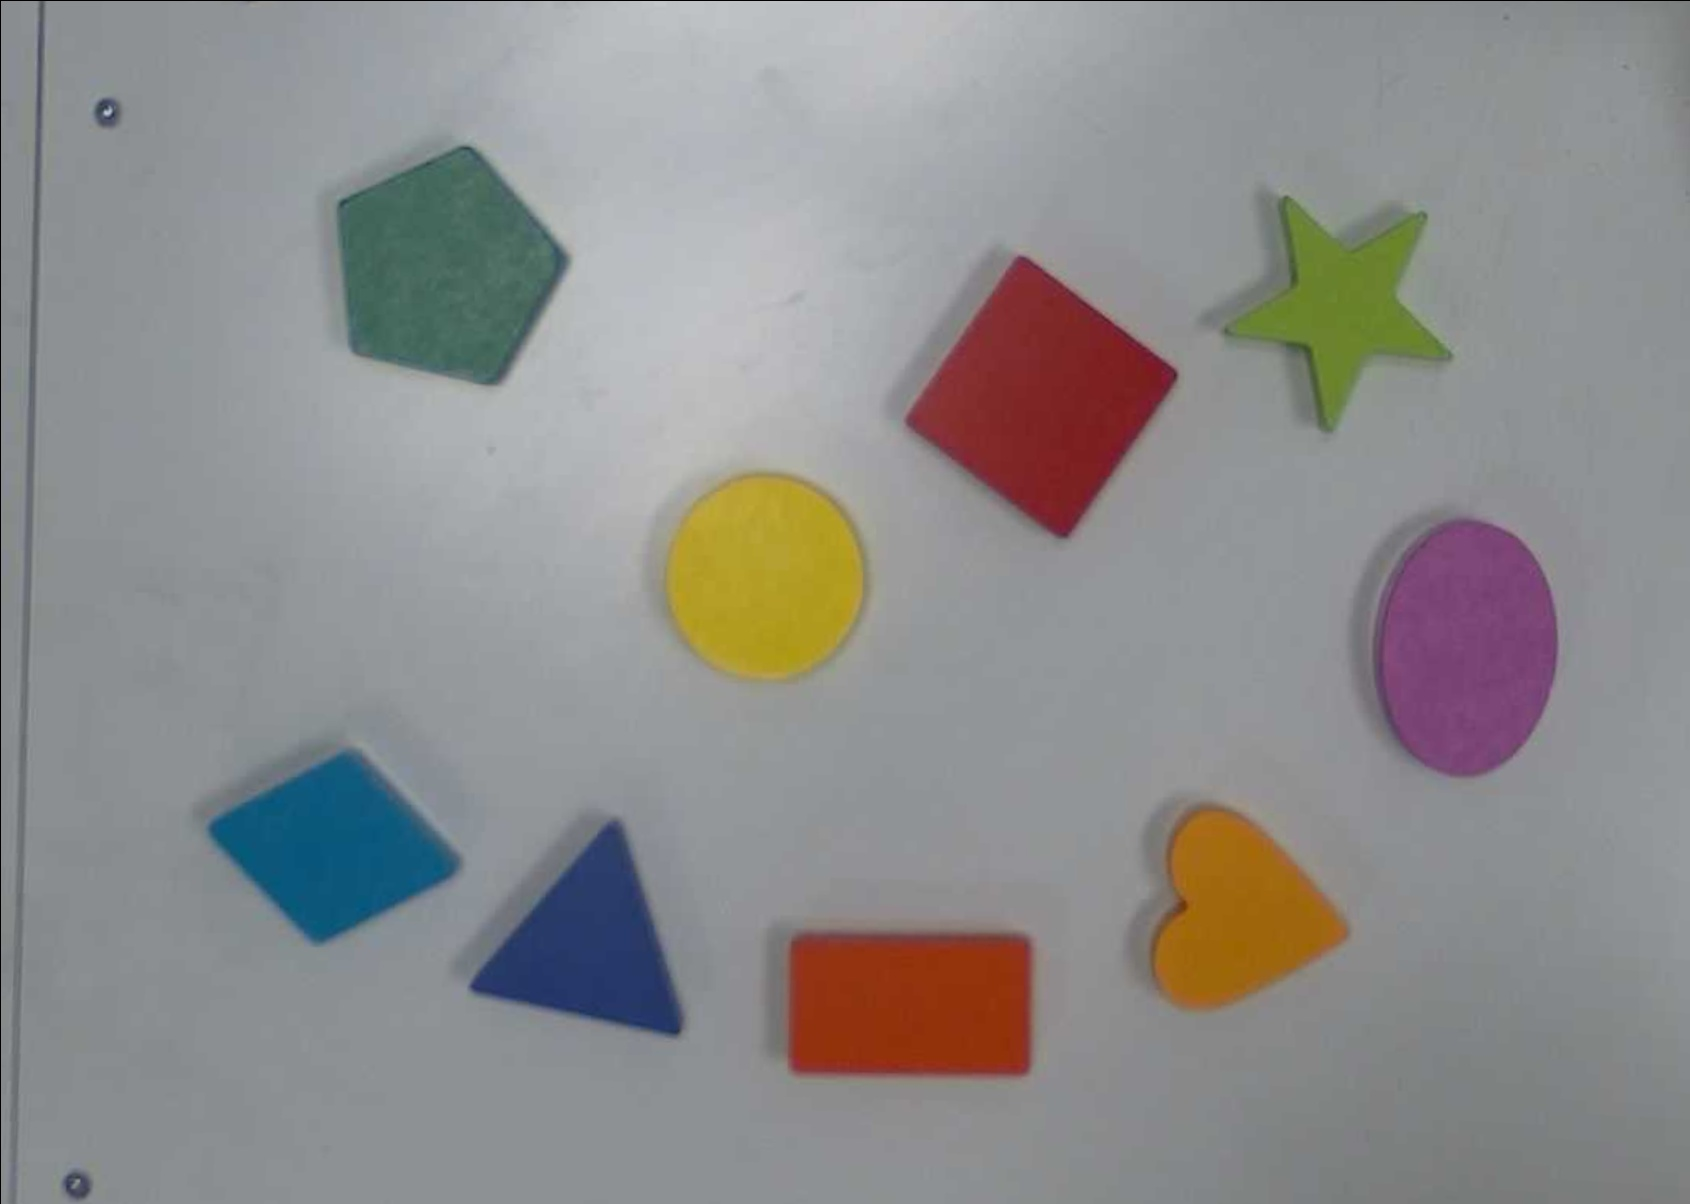Circle: (659, 470, 870, 687)
Ellipse: (1371, 517, 1562, 782)
Heart: (1145, 804, 1356, 1016)
Parallelogram: (203, 744, 465, 946)
Pentagon: (332, 141, 572, 390)
Rectangle: (786, 932, 1037, 1082)
Square: (902, 251, 1179, 539)
Star: (1216, 192, 1458, 435)
Triangle: (464, 816, 702, 1039)
